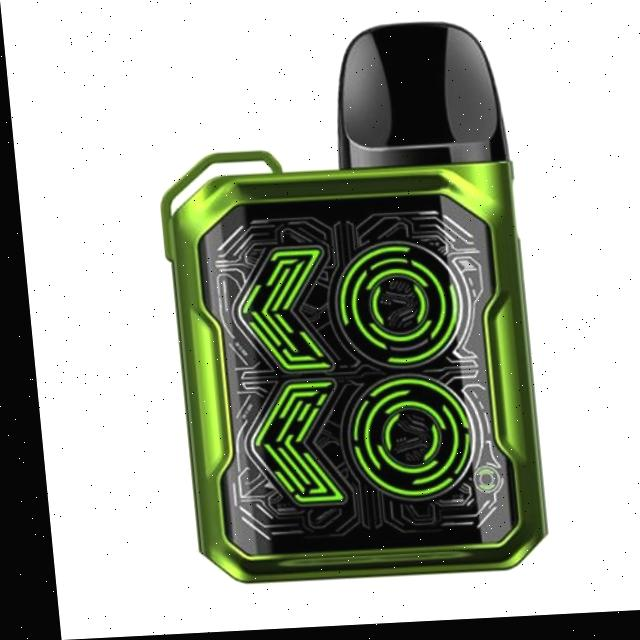vape: (143, 20, 543, 590)
